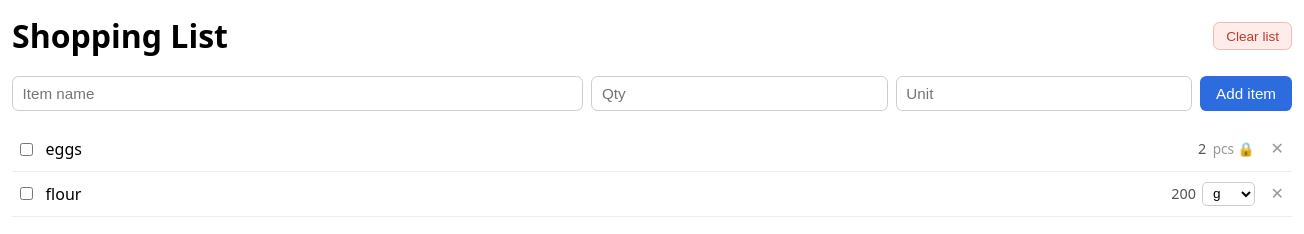
it: changing a unit sends only the unit and displays the converted quantity from the response
Expected: the text "flour" is shown, [46,182,81,206]
Select "kg" in the dropdown at (1228, 194), box [1202,182,1255,206]
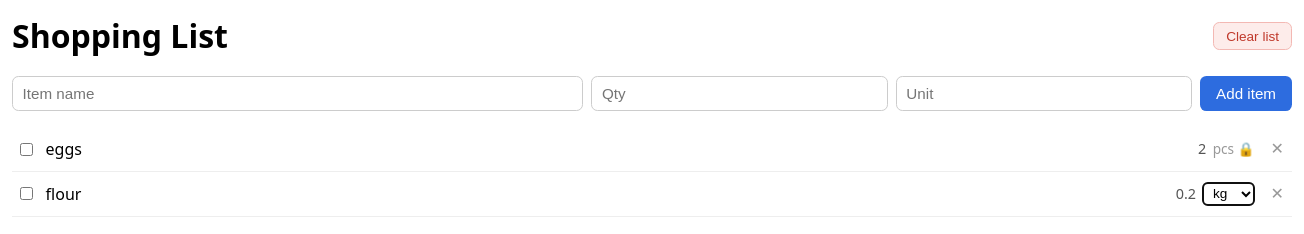
Expected: the text "0.2" is shown, [1176,183,1196,205]
